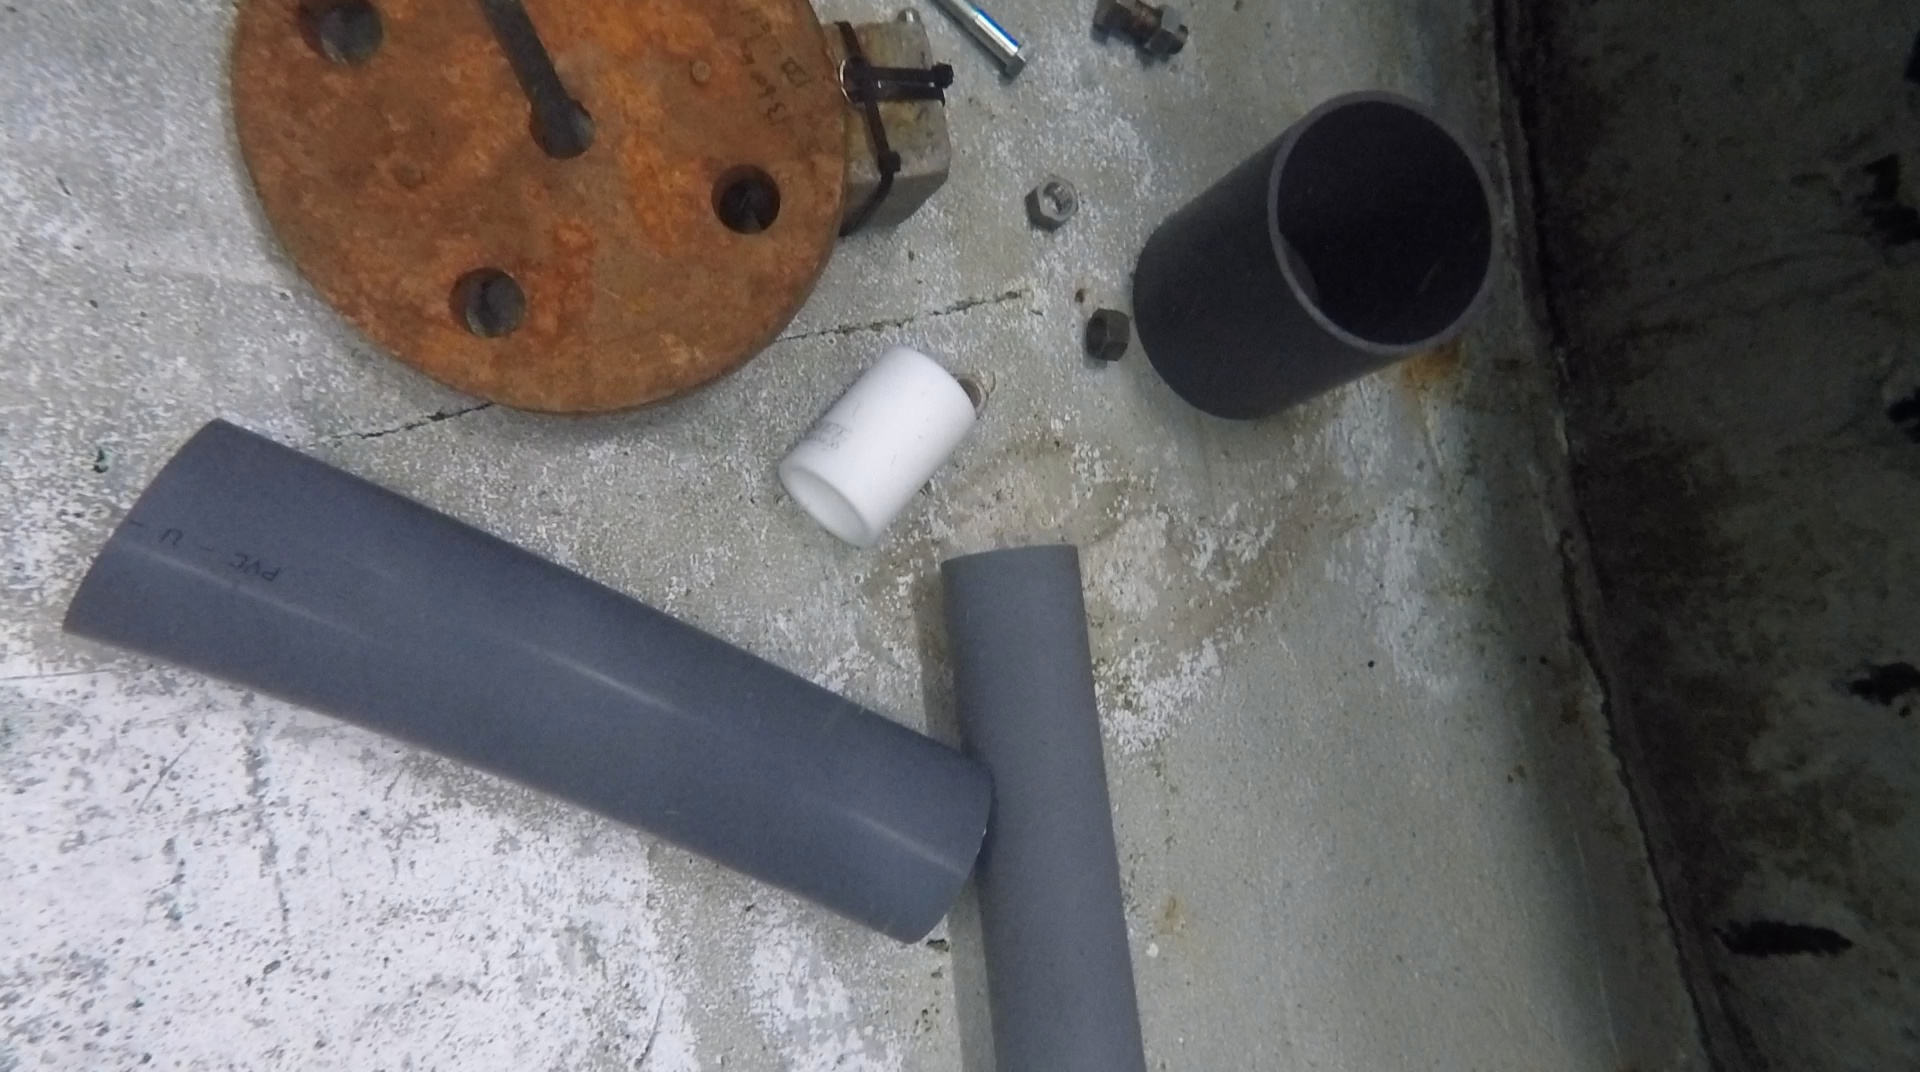bolt: (932, 1, 1036, 88), (1091, 1, 1189, 63)
flange: (228, 1, 843, 425)
led_block: (822, 28, 952, 247)
nut: (1026, 181, 1081, 239), (1085, 314, 1131, 371), (1149, 7, 1180, 65)
pipe: (63, 429, 996, 959), (1131, 95, 1505, 431), (939, 551, 1147, 1072), (778, 357, 978, 556)
